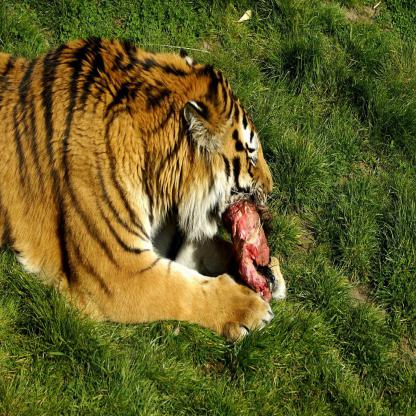Tiger: (0, 34, 285, 344)
